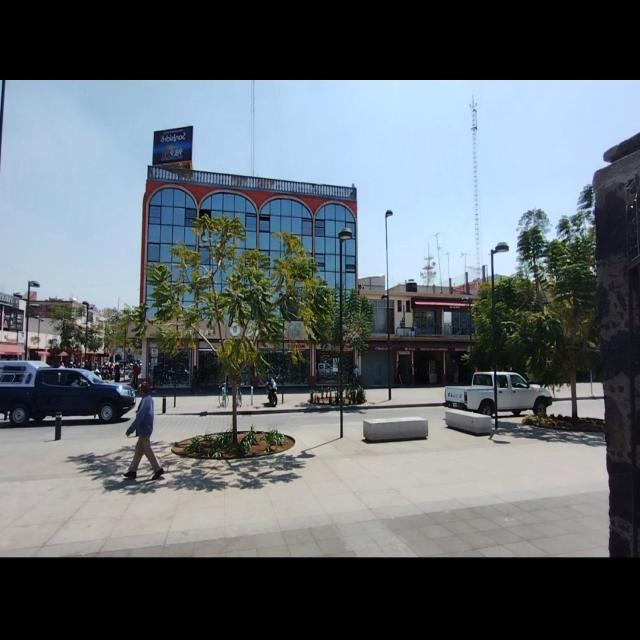adult: (122, 380, 162, 478)
